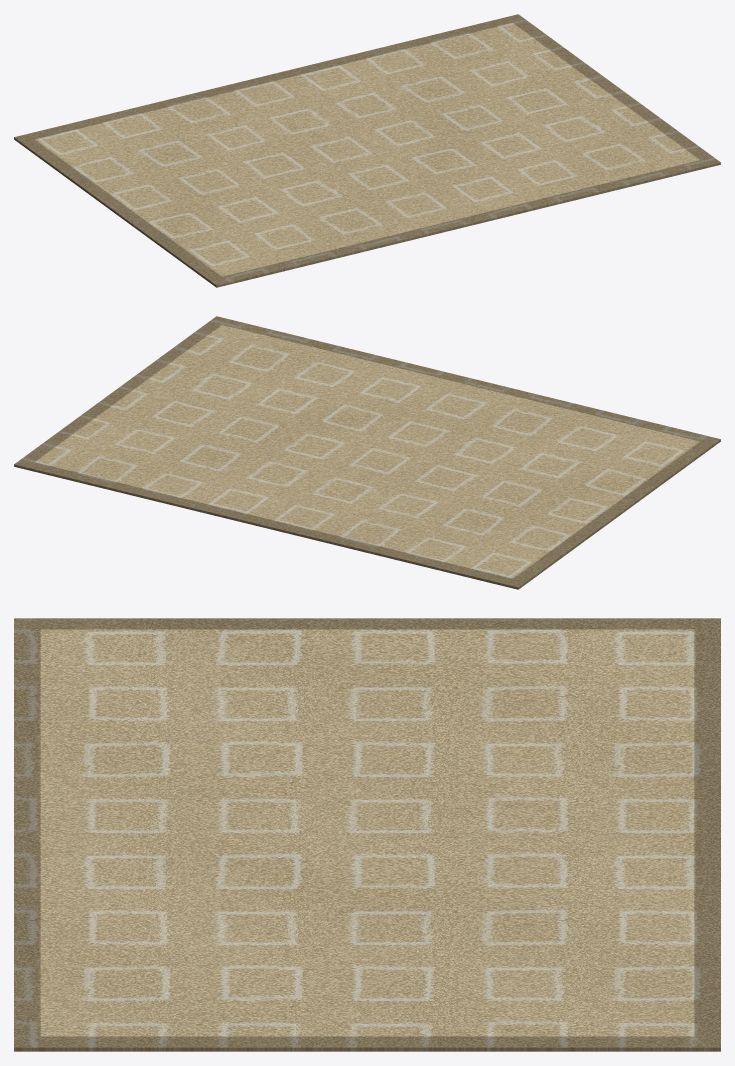
Rendered from alfombra_geometrica_160x230.glb.
3 renders of one model, top to bottom at view 1: azimuth 30°, elevation 25°; view 2: azimuth 150°, elevation 25°; view 3: azimuth 270°, elevation 25°, orthographic. The views are drawn at different scales.
Visible parts, largest first — view 1: alfombra_geometrica_160x230; view 2: alfombra_geometrica_160x230; view 3: alfombra_geometrica_160x230.
Part boxes in pixels (<box>): alfombra_geometrica_160x230: <box>14,14,720,287</box>; alfombra_geometrica_160x230: <box>14,316,720,589</box>; alfombra_geometrica_160x230: <box>14,618,720,1051</box>.
Bounding box in the file's own units: 2.3 × 0.01 × 1.6.
Materials: 1 (1 with a texture image).
